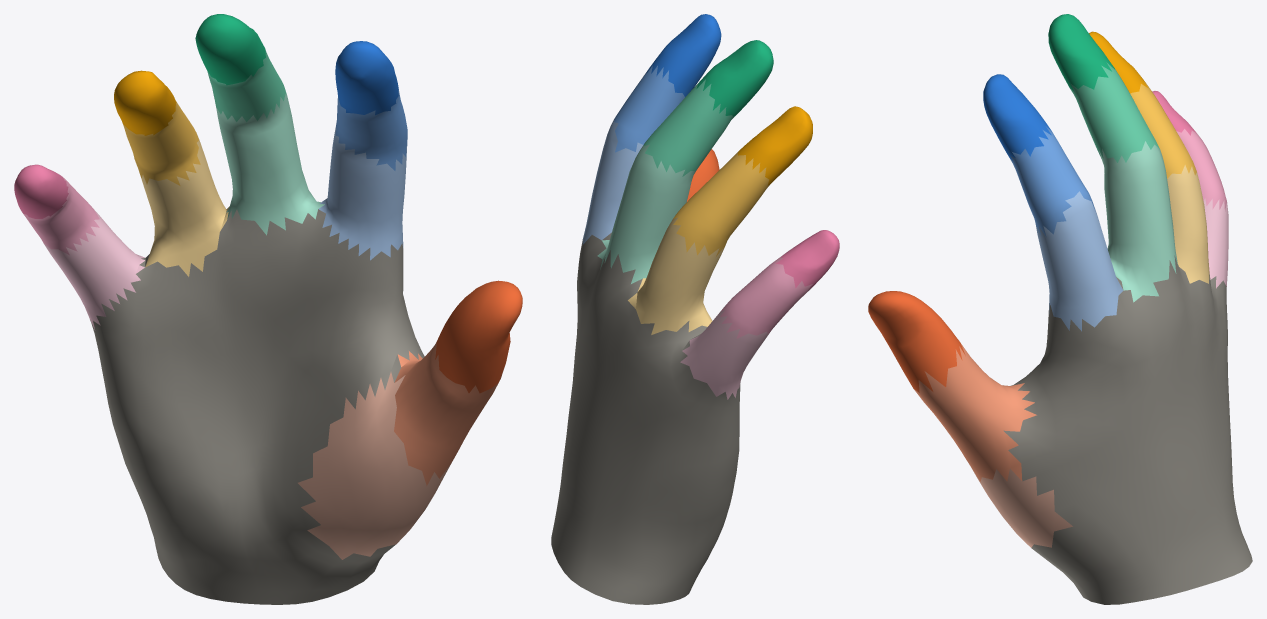
File: wuji_human.glb
3 renders of one model, left to right at view 1: azimuth 30°, elevation 25°; view 2: azimuth 150°, elevation 25°; view 3: azimuth 270°, elevation 25°, orthographic. The views are drawn at different scales.
Visible parts, largest first — view 1: hand; view 2: hand; view 3: hand.
Part boxes in pixels (x1=…): hand: x1=14, y1=14, x2=522, y2=604; hand: x1=551, y1=14, x2=839, y2=604; hand: x1=868, y1=14, x2=1252, y2=604.
Size of the model in its own units: 0.1078 by 0.1809 by 0.1187.
